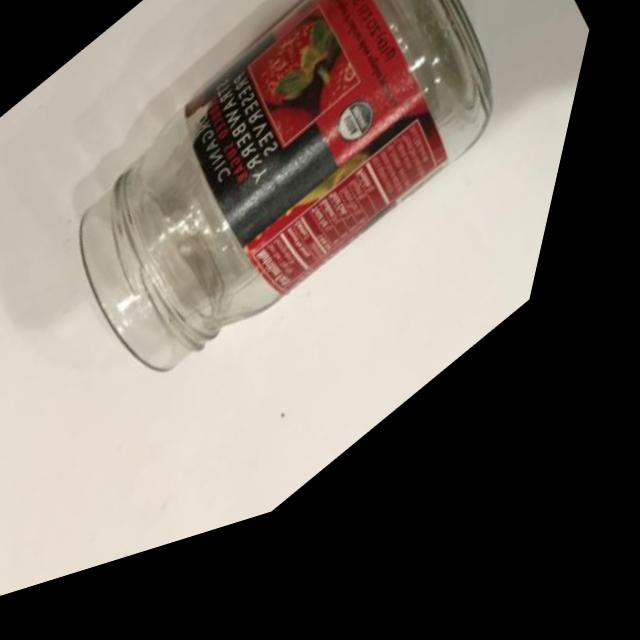glass: (0, 0, 640, 572)
